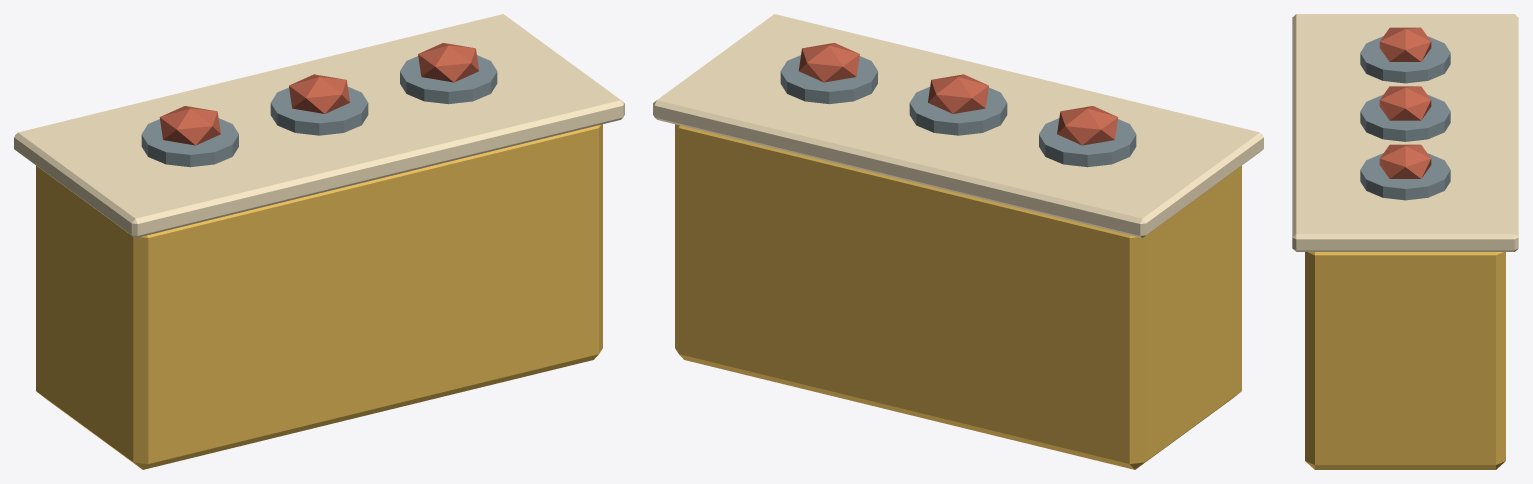
The model's file is Prop_FoodCounter.fbx.
The picture shows the model from 3 angles, left to right: view 1: azimuth 30°, elevation 25°; view 2: azimuth 150°, elevation 25°; view 3: azimuth 270°, elevation 25°; orthographic projection. The views are drawn at different scales.
Parts seen in each view (by area): view 1: Counter.002, Top, FoodTray.001, FoodTray.002, FoodTray, Food, Food.001, Food.002; view 2: Counter.002, Top, FoodTray.001, FoodTray.002, FoodTray, Food, Food.001, Food.002; view 3: Counter.002, Top, FoodTray.001, FoodTray, FoodTray.002, Food.001, Food, Food.002.
Boxes of the visible parts, x1,y1,x2,y2 form: Counter.002: (36, 124, 602, 469); Top: (14, 14, 624, 238); FoodTray.001: (270, 87, 368, 135); FoodTray.002: (400, 55, 497, 104); FoodTray: (141, 118, 238, 167); Food: (159, 106, 220, 145); Food.001: (289, 74, 349, 113); Food.002: (418, 43, 479, 82); Counter.002: (675, 124, 1241, 469); Top: (653, 14, 1263, 238); FoodTray.001: (909, 87, 1007, 135); FoodTray.002: (780, 55, 877, 104); FoodTray: (1039, 118, 1136, 167); Food: (1057, 106, 1118, 145); Food.001: (928, 74, 988, 113); Food.002: (798, 43, 859, 82); Counter.002: (1305, 252, 1505, 469); Top: (1292, 14, 1518, 251); FoodTray.001: (1360, 94, 1450, 141); FoodTray: (1360, 36, 1450, 83); FoodTray.002: (1360, 153, 1450, 200); Food.001: (1379, 86, 1431, 120); Food: (1379, 27, 1431, 61); Food.002: (1379, 144, 1431, 178).
Size of the model in its own units: 2.1 by 1.23 by 0.9.
